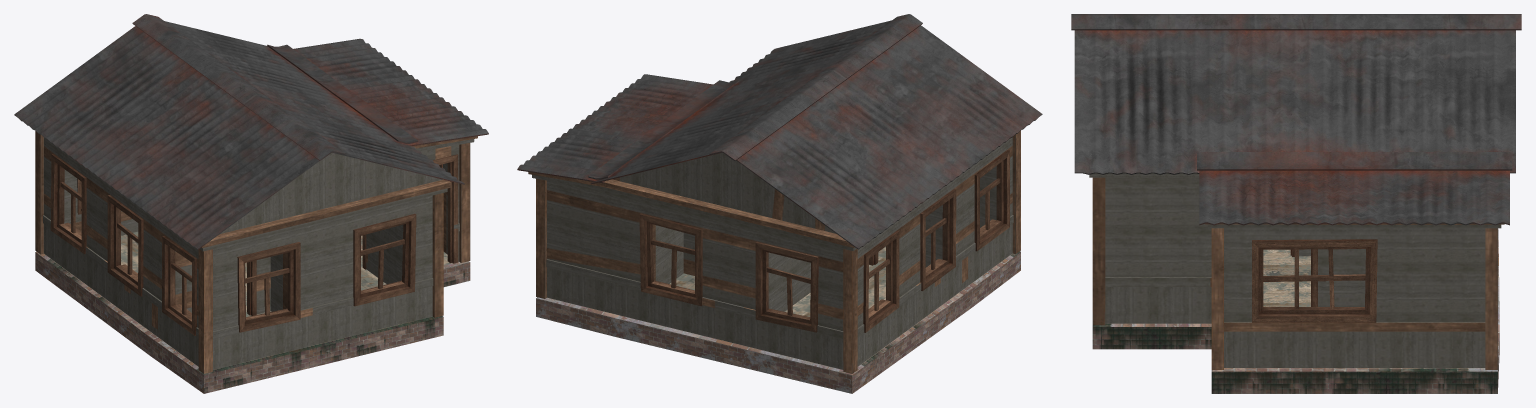
The model's file is old_house.glb.
3 renders of one model, left to right at view 1: azimuth 30°, elevation 25°; view 2: azimuth 150°, elevation 25°; view 3: azimuth 270°, elevation 25°, orthographic. The views are drawn at different scales.
Visible parts, largest first — view 1: Plane001, Box001, Object001_Material #27_0, Object_Material #28_0, Shape002_Material #25_0; view 2: Plane001, Box001, Object001_Material #27_0, Object_Material #28_0, Shape002_Material #25_0; view 3: Plane001, Box001, Object_Material #28_0, Object001_Material #27_0, Shape002_Material #25_0.
Part boxes in pixels (box(x1,y1,x2,y2)): Plane001: box(14, 14, 488, 249); Box001: box(35, 131, 470, 373); Object001_Material #27_0: box(50, 153, 458, 335); Object_Material #28_0: box(35, 231, 470, 393); Shape002_Material #25_0: box(200, 136, 477, 251); Plane001: box(517, 14, 1042, 249); Box001: box(536, 130, 1020, 373); Object001_Material #27_0: box(639, 150, 1009, 332); Object_Material #28_0: box(536, 246, 1020, 393); Shape002_Material #25_0: box(528, 172, 856, 251); Plane001: box(1071, 14, 1521, 225); Box001: box(1092, 177, 1497, 369); Object_Material #28_0: box(1092, 228, 1499, 393); Object001_Material #27_0: box(1252, 239, 1377, 322); Shape002_Material #25_0: box(1089, 173, 1504, 228).
Bounding box in the file's own units: 722 × 442 × 683.
Materials: 4 (4 with a texture image).
